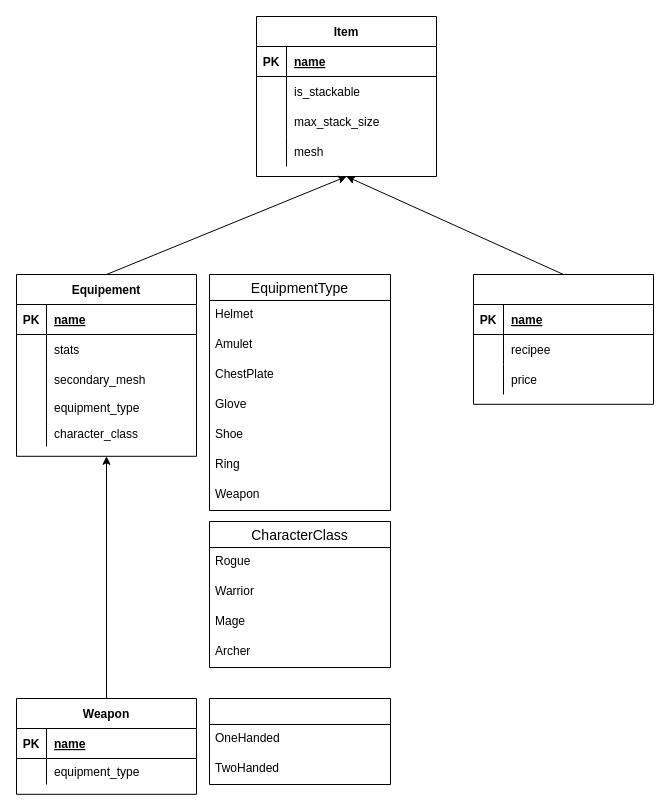
Image size: 670x811. Some labels were removed from this diagram. Here are the shapes that lost their labels. From the top down, the box of each, then its label:
(472, 274, 654, 404): Material
(208, 698, 390, 784): WeaponType
